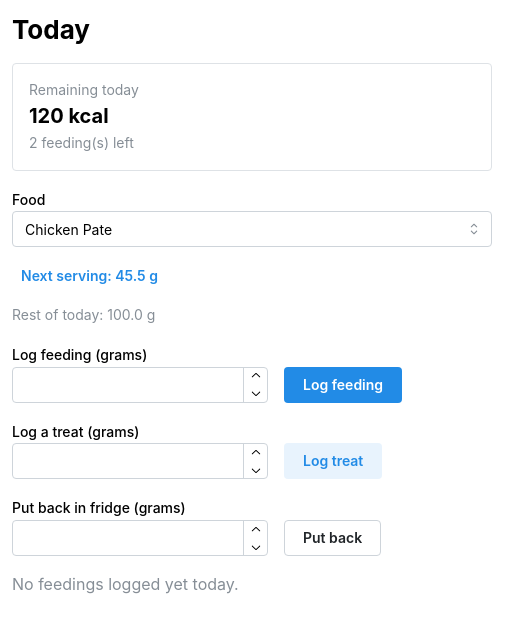
Test: TodayScreen › kcal preview › uses the selected food's kcal per gram
The width and height of the screenshot is (514, 635).
Expected: the text "120 kcal" is shown, [29,104,109,128]
Click the field labelled "Food": (252, 230) [12,212,492,248]
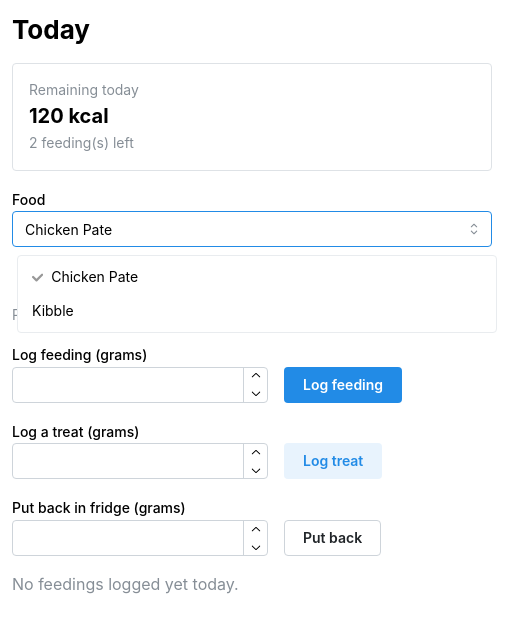
Click the option "Kibble": (53, 311) [32,302,74,319]
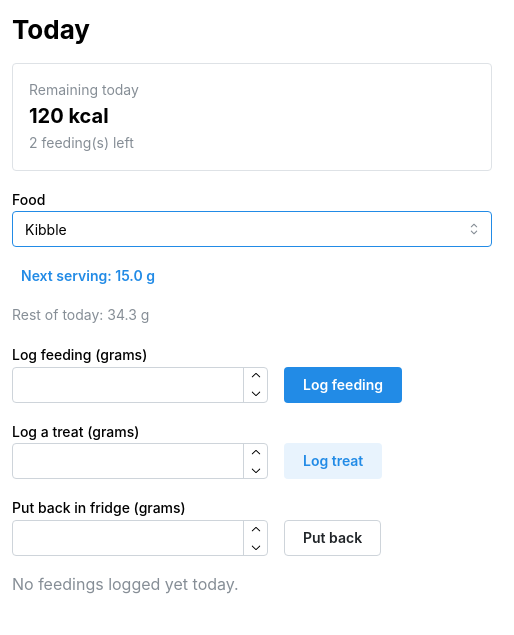
In the field labelled "Log feeding (grams)": (140, 385) [12,367,268,403], type "10"
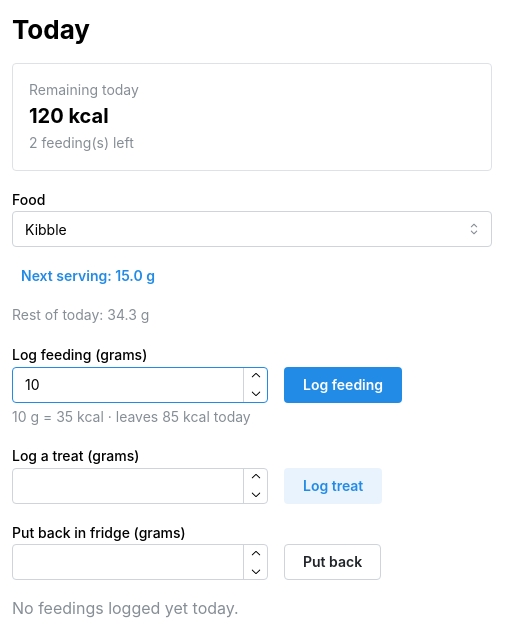
Now the text "10 g = 35 kcal · leaves 85 kcal today" is shown, box [12,408,251,425]
